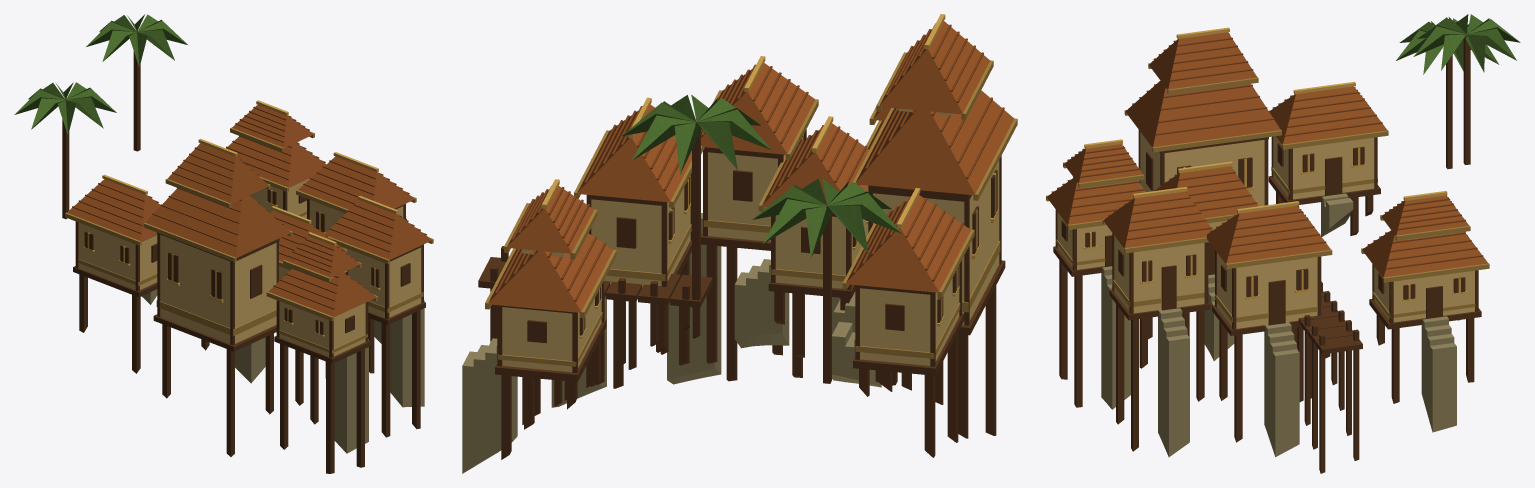
File: giadinh.obj
3 renders of one model, left to right at view 1: azimuth 30°, elevation 25°; view 2: azimuth 150°, elevation 25°; view 3: azimuth 270°, elevation 25°, orthographic. The views are drawn at different scales.
Parts seen in each view (by area): view 1: giadinh; view 2: giadinh; view 3: giadinh.
Part boxes in pixels (left/top/right/bottom): giadinh: left=14, top=14, right=433, bottom=473; giadinh: left=462, top=14, right=1017, bottom=473; giadinh: left=1046, top=14, right=1520, bottom=473.
Bounding box in the file's own units: 12.03 × 11.43 × 13.85.
